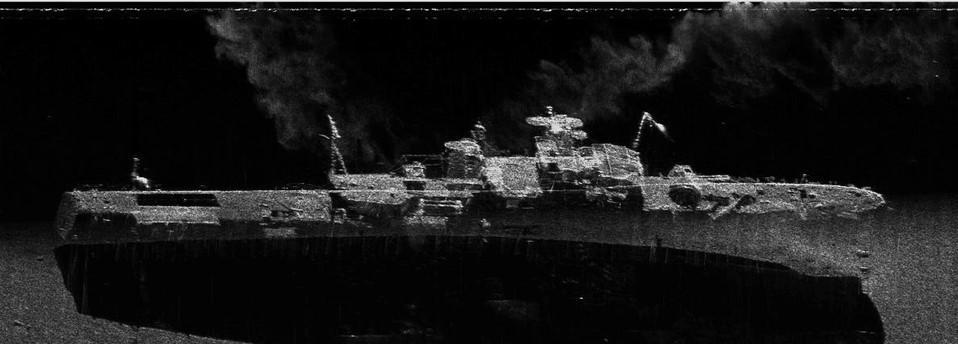ship: (51, 105, 887, 282)
